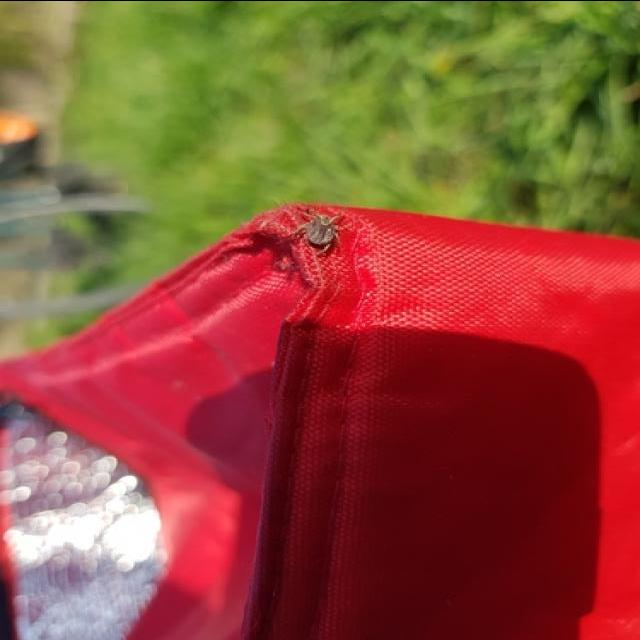Dermacentor Reticulatus-F: (305, 215, 337, 246)
